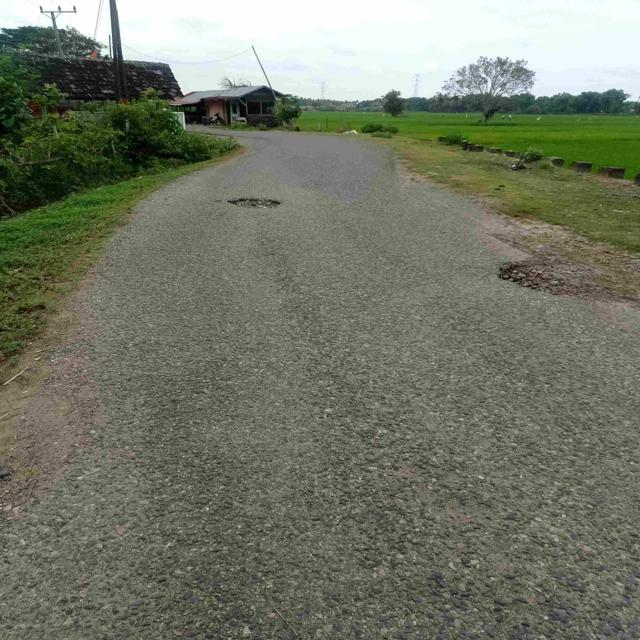Lubang: (212, 190, 304, 217)
Pinggir: (432, 206, 640, 352)
